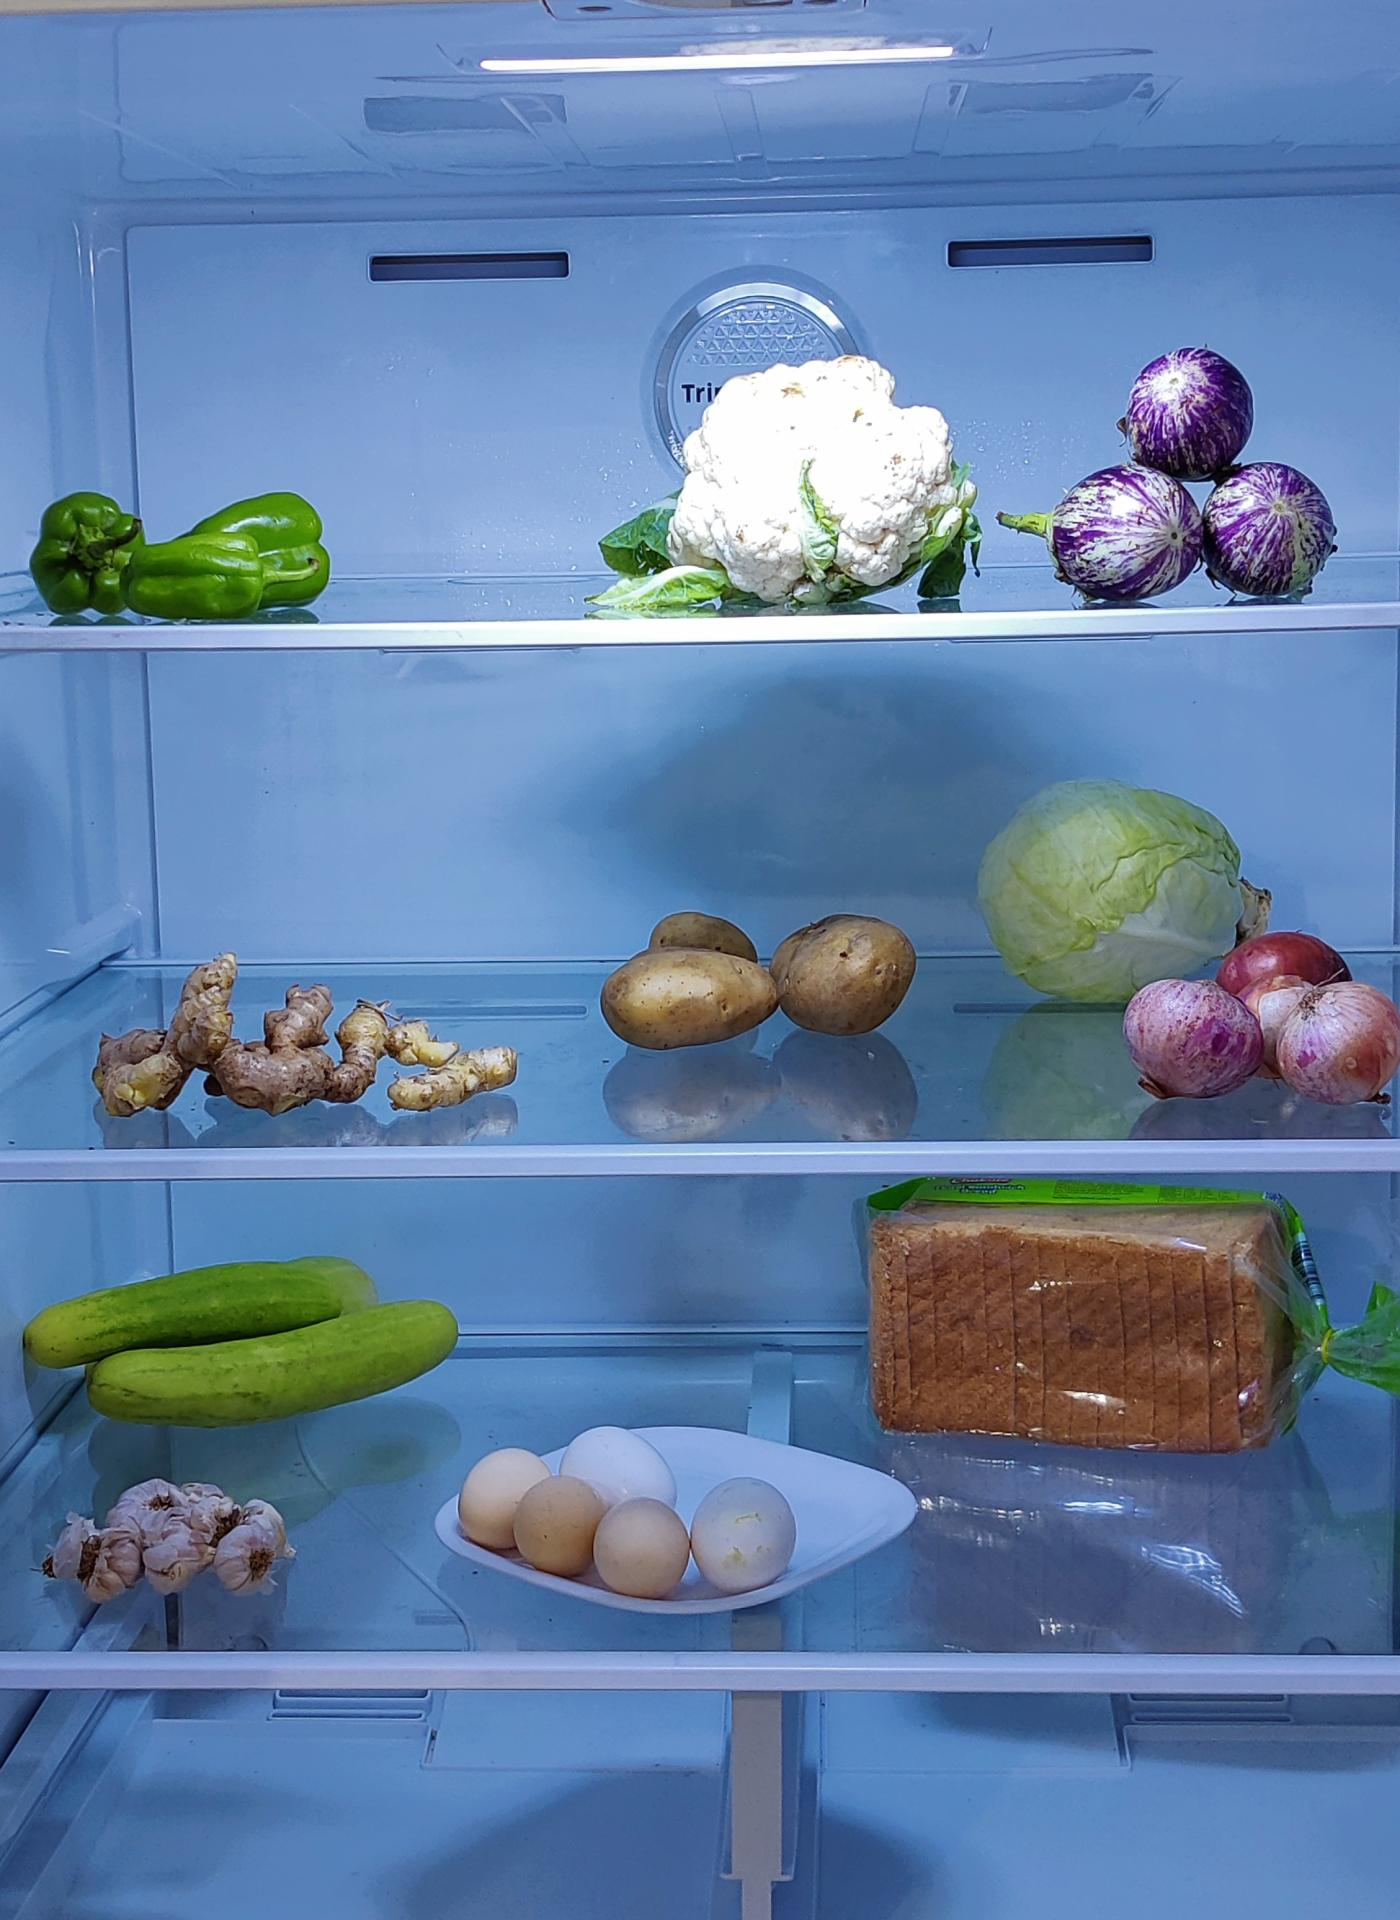bread: (866, 1175, 1324, 1458)
cabbage: (978, 783, 1269, 1006)
capsicum: (19, 484, 334, 631)
cauliflower: (668, 349, 966, 607)
cucumber: (33, 1255, 473, 1427)
egg: (1056, 344, 1337, 598), (459, 1422, 783, 1597)
garlic: (43, 1474, 291, 1602)
ginger: (98, 938, 522, 1115)
onion: (1118, 933, 1396, 1111)
potato: (598, 911, 918, 1055)
